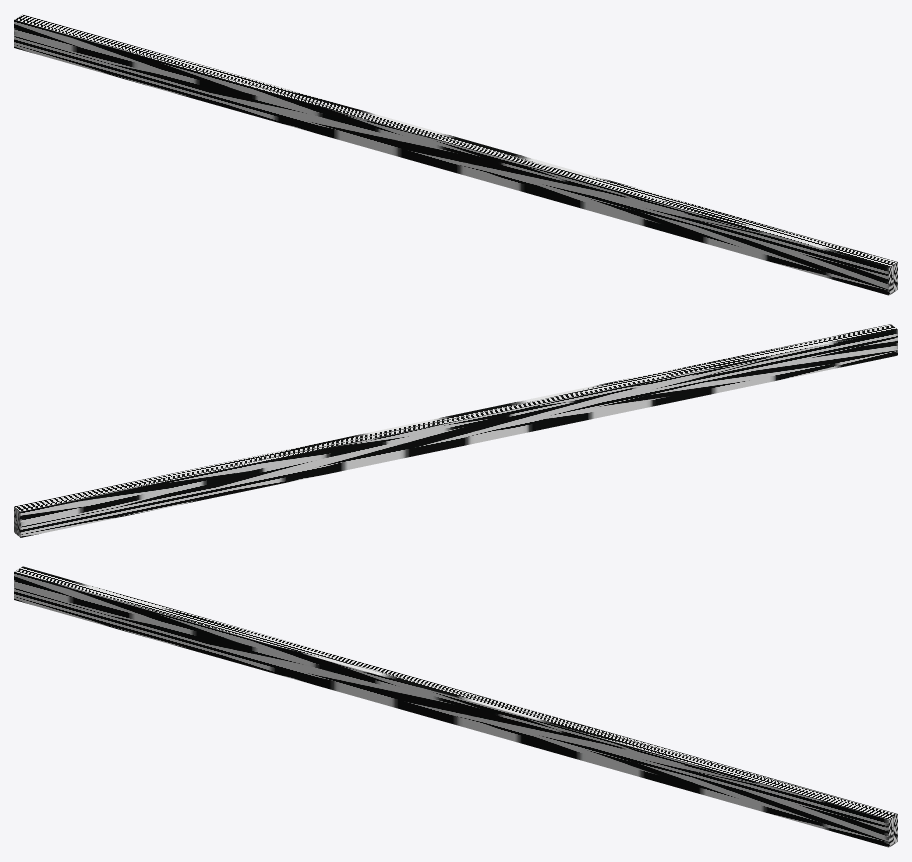
3 views of the same model, one above another, from view 1: azimuth 90°, elevation 25°; view 2: azimuth 150°, elevation 25°; view 3: azimuth 270°, elevation 25° (orthographic). The views are drawn at different scales.
Visible parts, largest first — view 1: Cube.014; view 2: Cube.014; view 3: Cube.014.
Boxes of the visible parts, box(x1,y1,x2,y2) form: Cube.014: box(14, 14, 897, 295); Cube.014: box(14, 324, 897, 537); Cube.014: box(14, 566, 897, 847).
Size of the model in its own units: 11 by 0.5648 by 16.23.
1 material, 1 textured.
